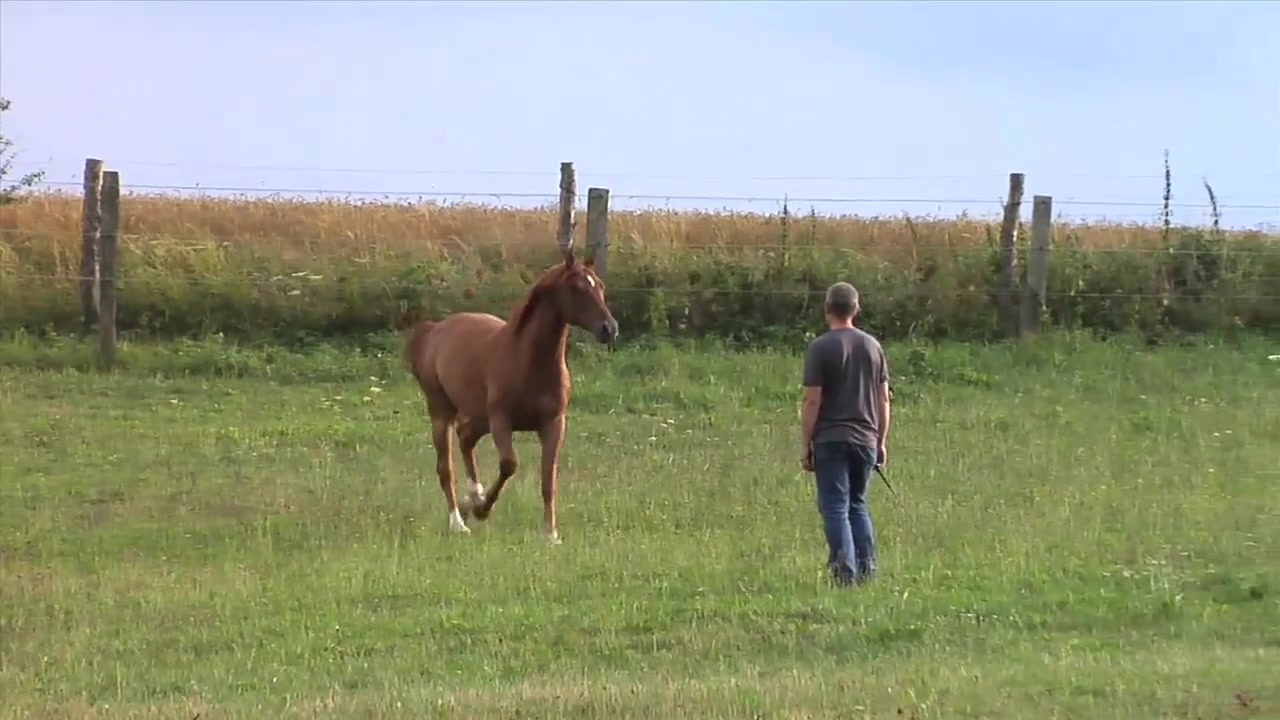horse: (403, 244, 625, 546)
